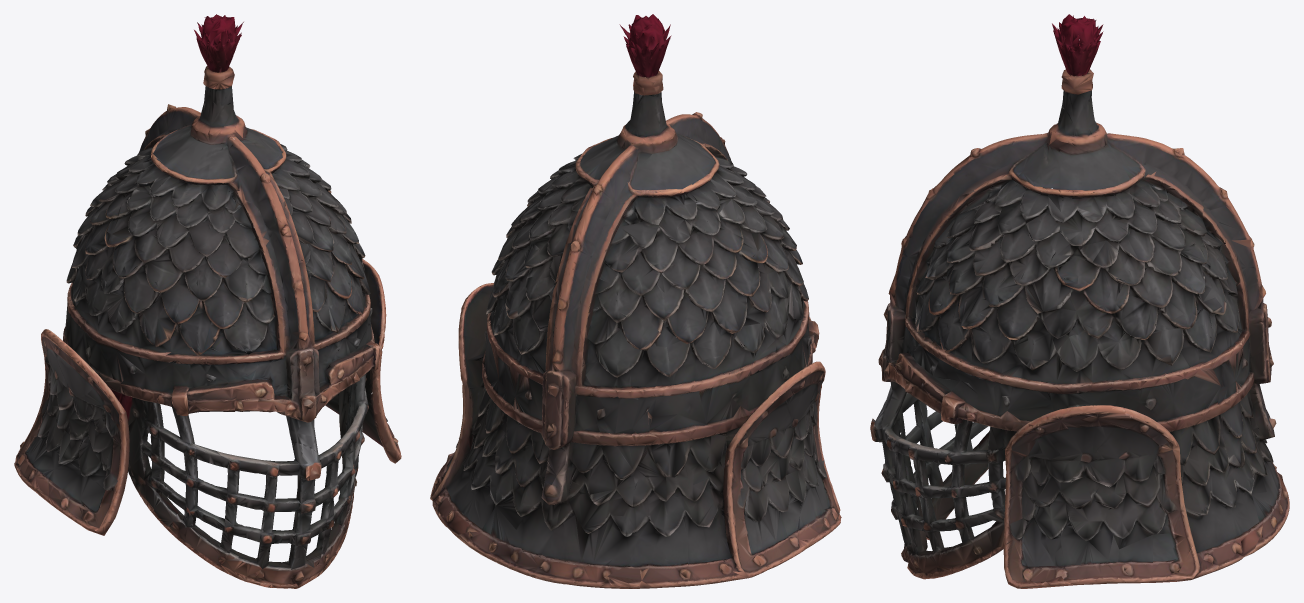
File: eq_helm.glb
3 views of the same model, side by side, from view 1: azimuth 30°, elevation 25°; view 2: azimuth 150°, elevation 25°; view 3: azimuth 270°, elevation 25° (orthographic). The views are drawn at different scales.
Visible parts, largest first — view 1: tripo_node_8623de88-0e1f-4ccd-b0b9-247a797a84eb; view 2: tripo_node_8623de88-0e1f-4ccd-b0b9-247a797a84eb; view 3: tripo_node_8623de88-0e1f-4ccd-b0b9-247a797a84eb.
Boxes of the visible parts, left/top/right/bottom form: tripo_node_8623de88-0e1f-4ccd-b0b9-247a797a84eb: left=14, top=14, right=401, bottom=588; tripo_node_8623de88-0e1f-4ccd-b0b9-247a797a84eb: left=430, top=14, right=841, bottom=588; tripo_node_8623de88-0e1f-4ccd-b0b9-247a797a84eb: left=870, top=14, right=1289, bottom=588.
Size of the model in its own units: 0.231 by 0.34 by 0.2329.
1 material, 1 textured.
